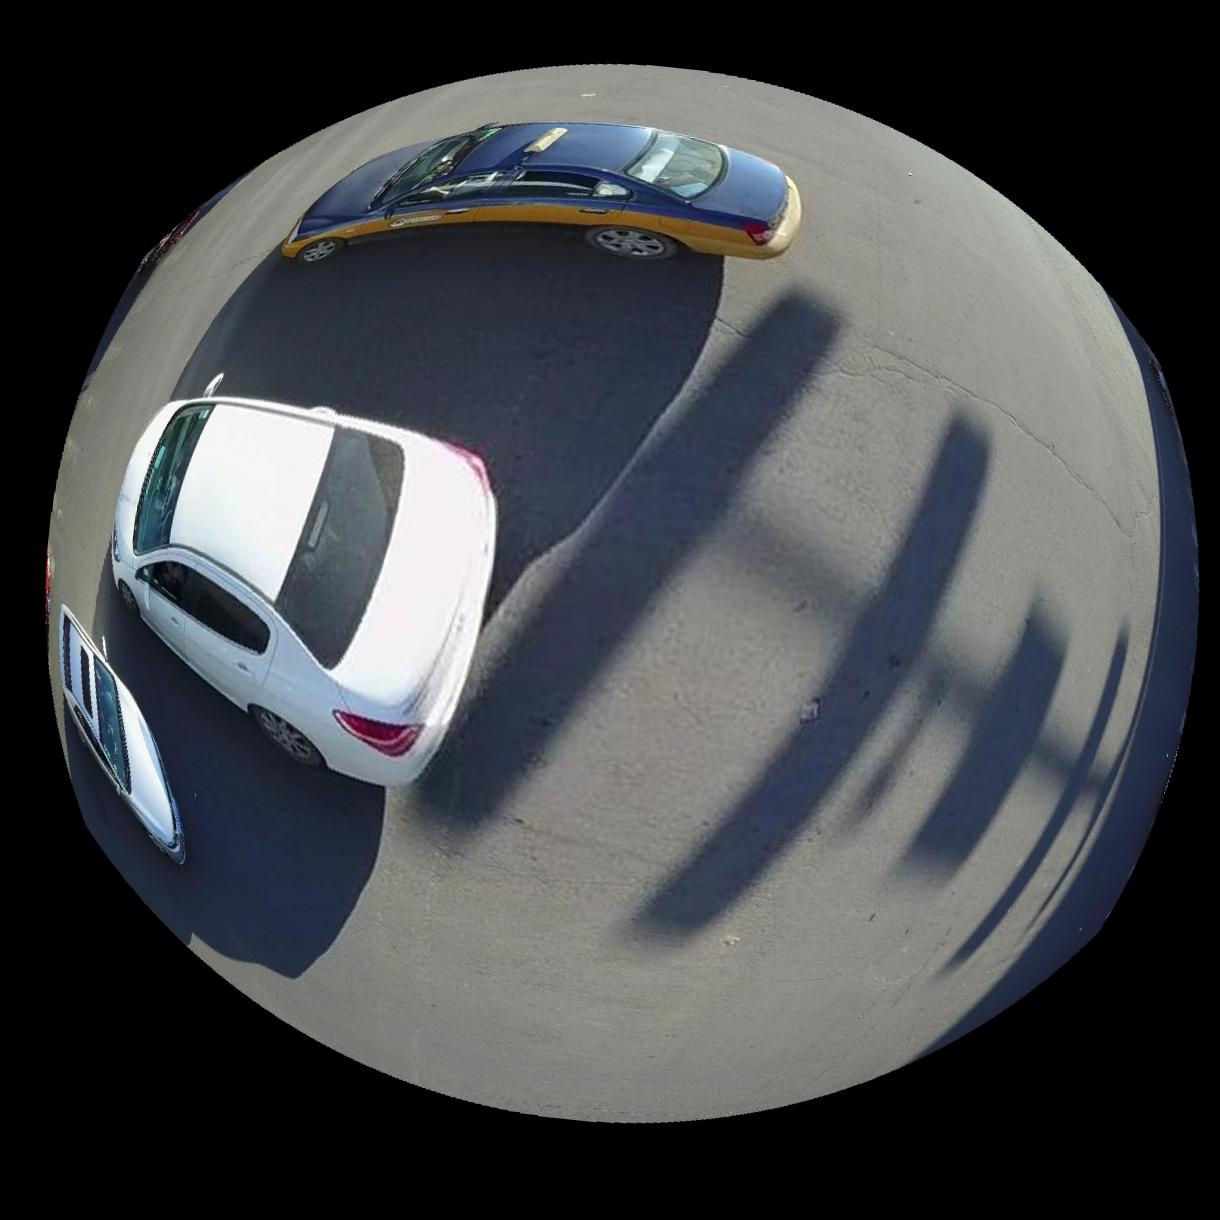cars: (109, 397, 496, 787), (282, 122, 802, 261)
